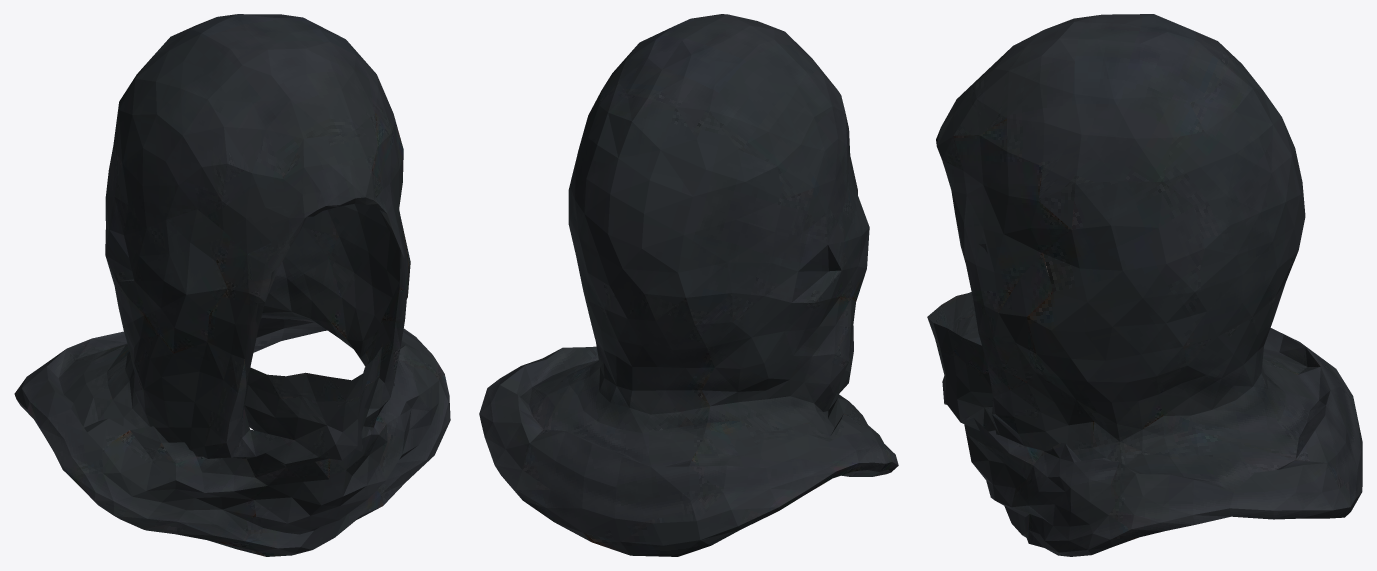
The model's file is ewm_t2ninja_hat.glb.
3 views of the same model, side by side, from view 1: azimuth 30°, elevation 25°; view 2: azimuth 150°, elevation 25°; view 3: azimuth 270°, elevation 25° (orthographic). The views are drawn at different scales.
Visible parts, largest first — view 1: ewm_t2ninja_hat; view 2: ewm_t2ninja_hat; view 3: ewm_t2ninja_hat.
Part boxes in pixels (<box>): ewm_t2ninja_hat: <box>14,14,450,556</box>; ewm_t2ninja_hat: <box>479,14,898,556</box>; ewm_t2ninja_hat: <box>927,14,1362,556</box>.
Size of the model in its own units: 0.316 by 0.3876 by 0.3038.
Materials: 1 (1 with a texture image).
